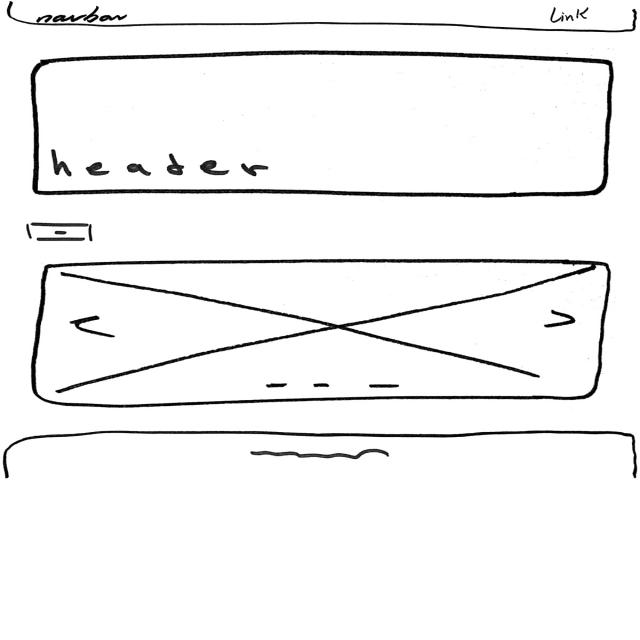container: (30, 50, 618, 199), (5, 1, 640, 32)
icon-button: (26, 223, 99, 245)
image: (31, 261, 614, 408)
label: (48, 149, 269, 179), (36, 8, 130, 23), (550, 7, 591, 25)
text: (250, 448, 391, 462)
